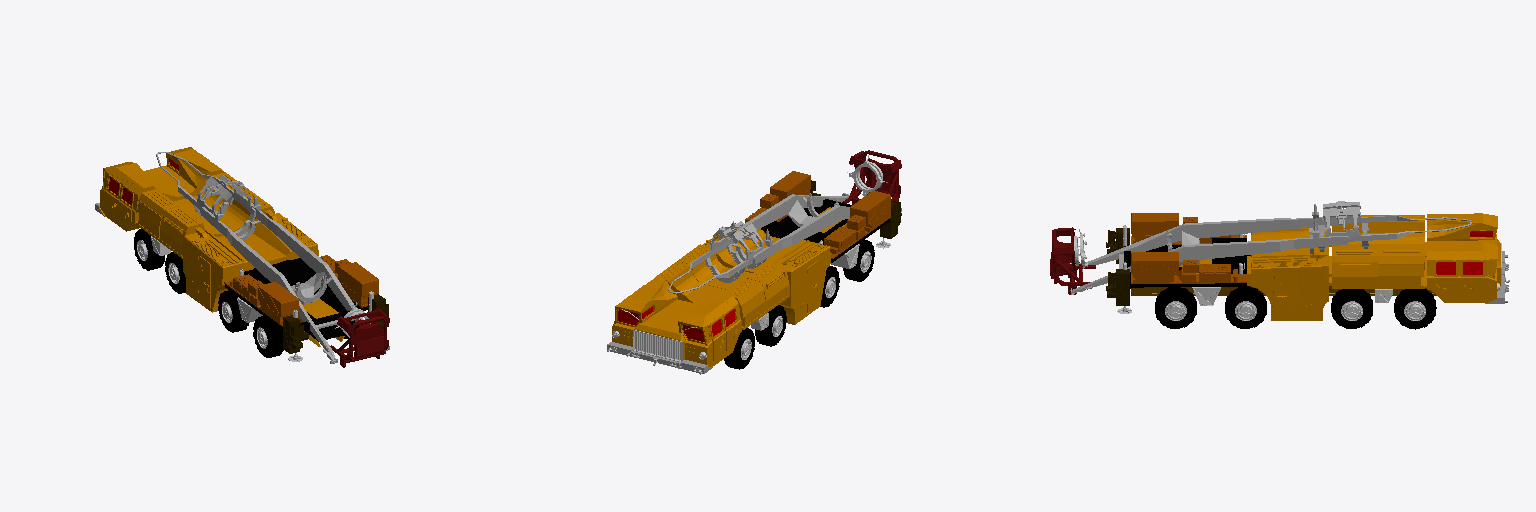
The model's file is artEmpty.obj.
3 views of the same model, side by side, from view 1: azimuth 30°, elevation 25°; view 2: azimuth 150°, elevation 25°; view 3: azimuth 270°, elevation 25° (orthographic).
Bounding box in the file's own units: 0.7941 × 0.8 × 3.2.